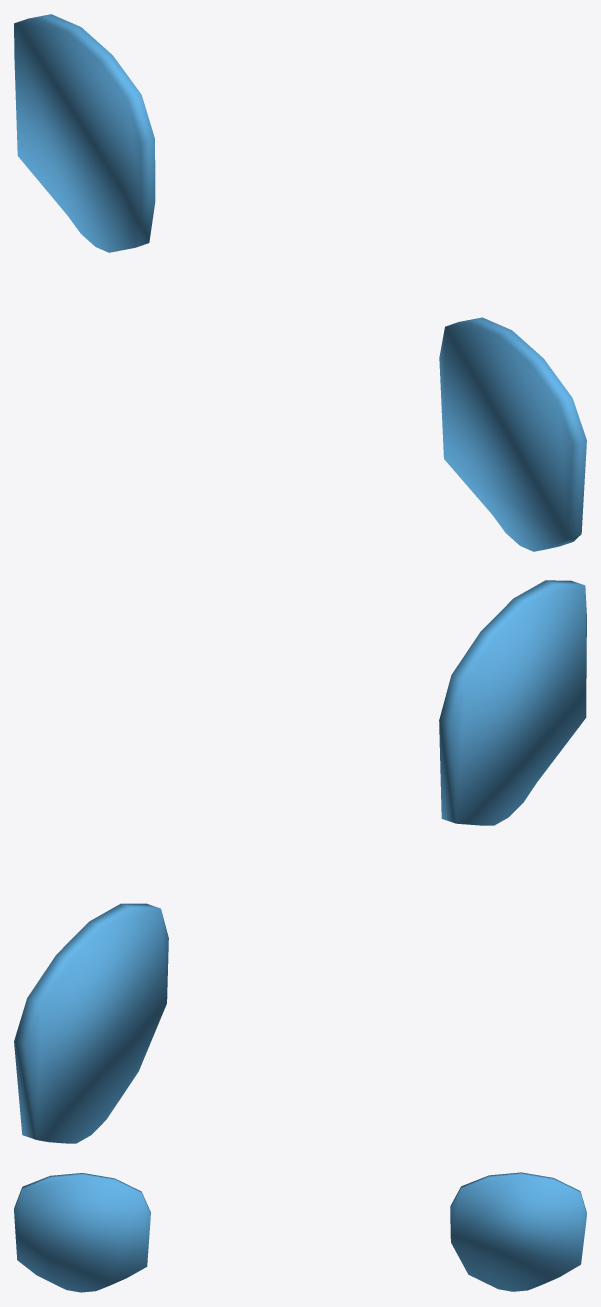
Rendered from WilhelmEyeshadow.glb.
3 views of the same model, one above another, from view 1: azimuth 30°, elevation 25°; view 2: azimuth 150°, elevation 25°; view 3: azimuth 270°, elevation 25° (orthographic). The views are drawn at different scales.
Parts seen in each view (by area): view 1: WilhelmEyeshadow; view 2: WilhelmEyeshadow; view 3: WilhelmEyeshadow.
Part boxes in pixels (bbox=[...]): WilhelmEyeshadow: bbox=[14, 14, 586, 551]; WilhelmEyeshadow: bbox=[14, 580, 586, 1143]; WilhelmEyeshadow: bbox=[14, 1172, 586, 1292].
Size of the model in its own units: 0.1378 by 0.6613 by 3.02.
